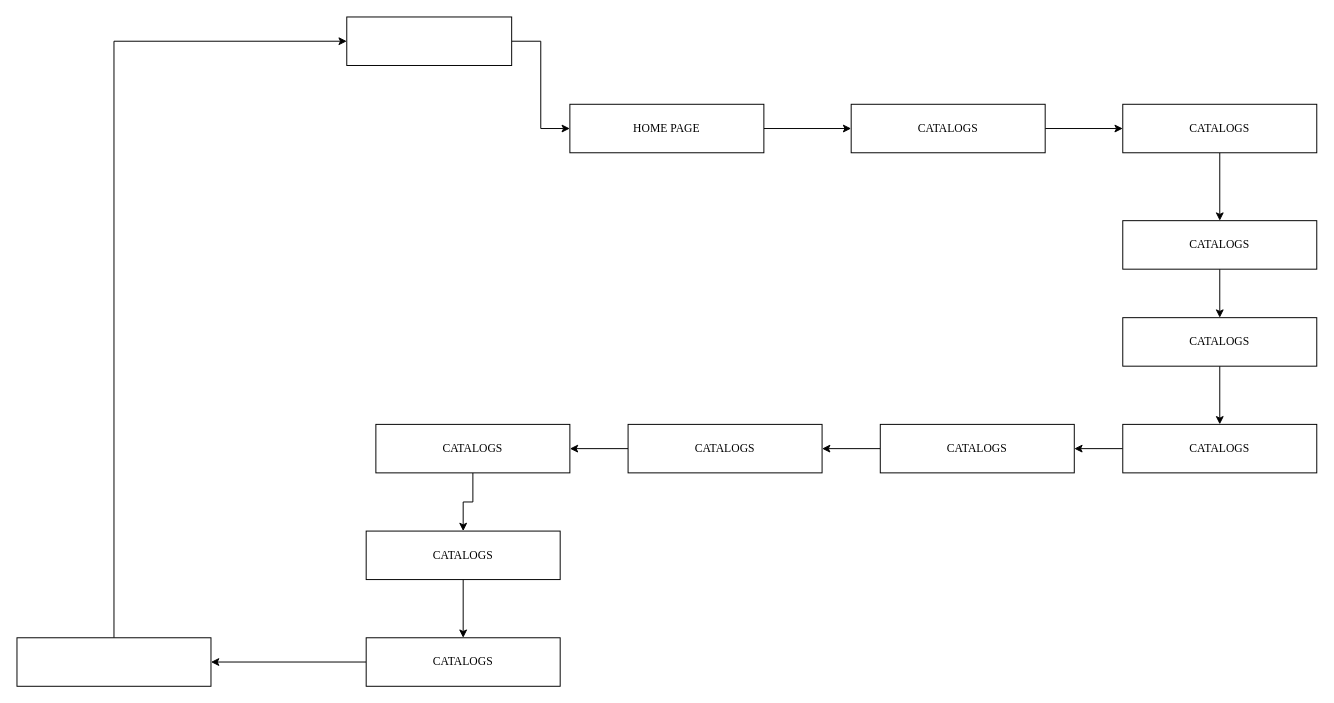
This 1334x703 diagram has some shape labels left out. Each missing label, with the centre of its shape:
LOG OUT: pixel 113 661
SPLASH PAGE: pixel 429 40
